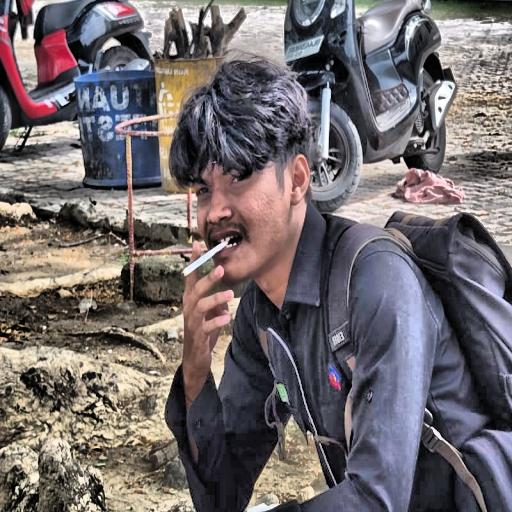Merokok: (184, 239, 230, 276)
Rokok: (183, 155, 310, 394)
